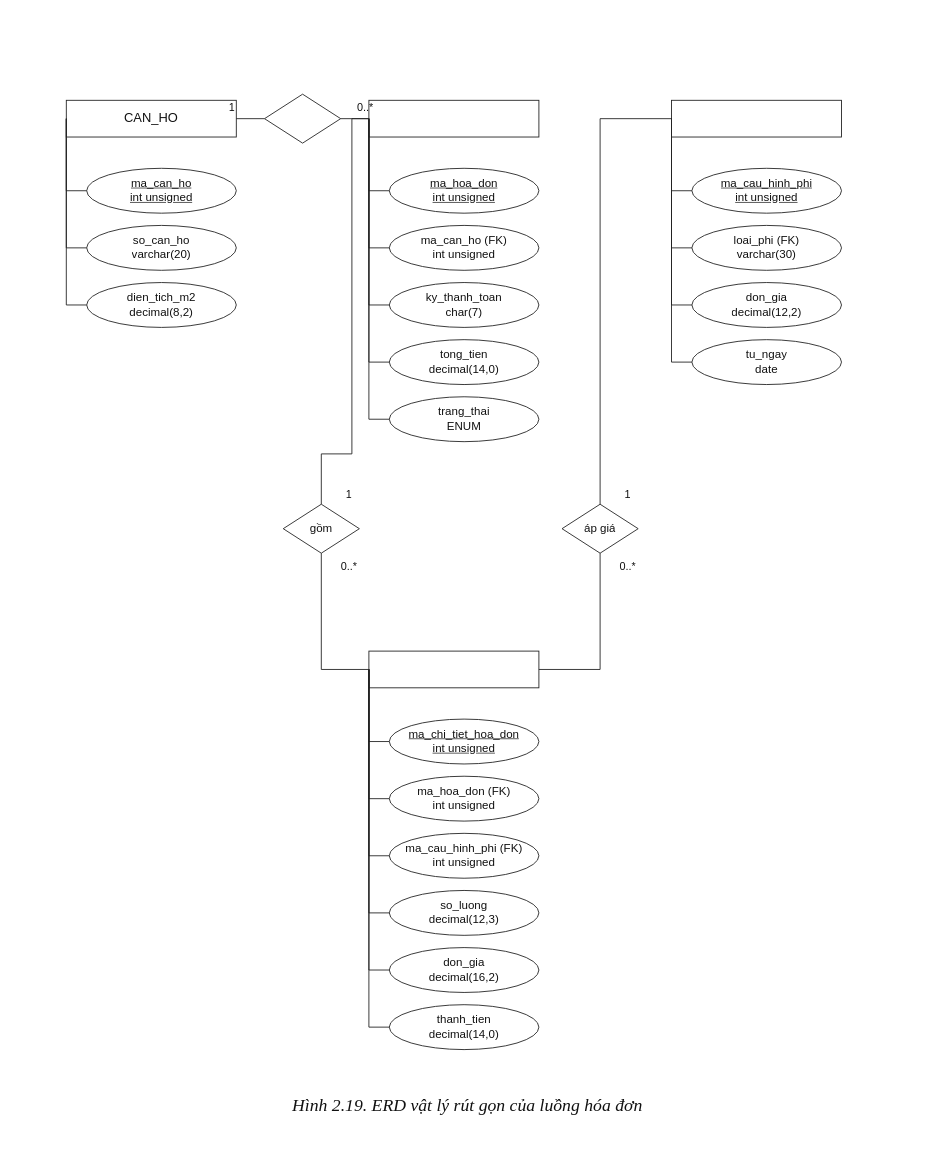
Some shapes in this 934 by 1152 pixel diagram are drawn without their labels. Here are the shapes that lost their labels. From the top down, the centre of each, then its label:
At (x=302, y=118): "nhận".
At (x=453, y=118): "HOA_DON".
At (x=756, y=118): "CAU_HINH_PHI".
At (x=453, y=669): "CHI_TIET_HOA_DON".
